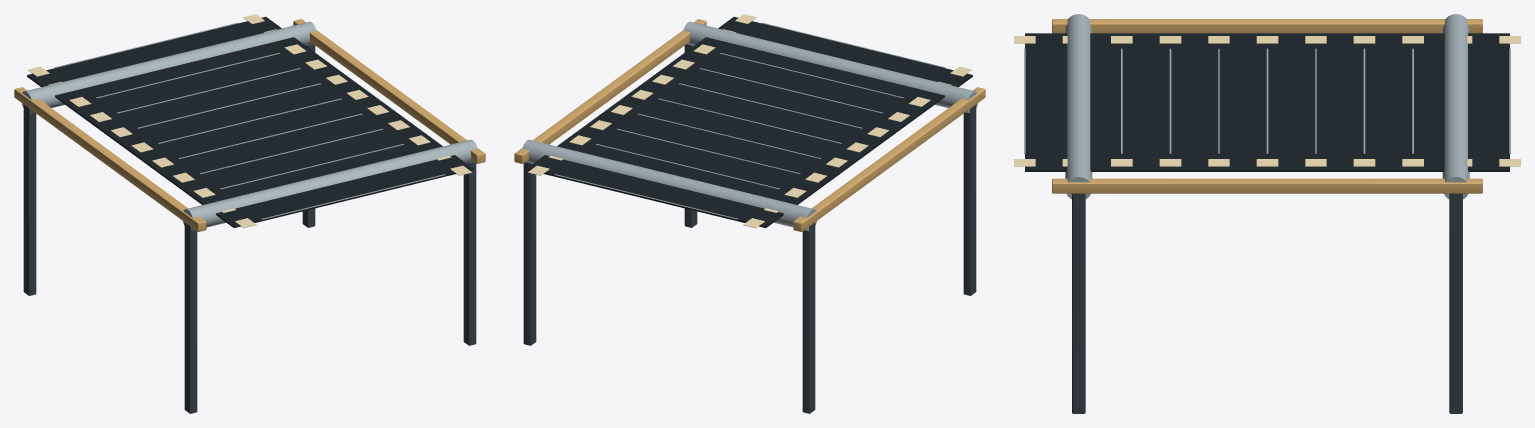
File: nyanisyarud-camera-overhead-film.glb
The picture shows the model from 3 angles, left to right: view 1: azimuth 30°, elevation 25°; view 2: azimuth 150°, elevation 25°; view 3: azimuth 270°, elevation 25°; orthographic projection. The views are drawn at different scales.
Visible parts, largest first — view 1: OverheadFilm, overhead-film_case, overhead-film_steel, overhead-film_brass, FilmFlow_steel, FilmFlow_cream; view 2: OverheadFilm, overhead-film_case, overhead-film_steel, overhead-film_brass, FilmFlow_steel, FilmFlow_cream; view 3: OverheadFilm, overhead-film_brass, overhead-film_steel, overhead-film_case, FilmFlow_cream, FilmFlow_steel.
Part boxes in pixels (<box>): OverheadFilm: <box>27,16,472,227</box>; overhead-film_case: <box>23,44,476,413</box>; overhead-film_steel: <box>22,21,477,231</box>; overhead-film_brass: <box>14,19,485,231</box>; FilmFlow_steel: <box>54,22,445,219</box>; FilmFlow_cream: <box>28,14,471,228</box>; OverheadFilm: <box>527,16,972,227</box>; overhead-film_case: <box>523,44,976,413</box>; overhead-film_steel: <box>522,21,977,231</box>; overhead-film_brass: <box>514,19,985,231</box>; FilmFlow_steel: <box>554,22,945,219</box>; FilmFlow_cream: <box>528,14,971,228</box>; OverheadFilm: <box>1025,33,1509,171</box>; overhead-film_brass: <box>1052,19,1482,193</box>; overhead-film_steel: <box>1065,14,1469,199</box>; overhead-film_case: <box>1072,193,1462,413</box>; FilmFlow_cream: <box>1014,36,1520,166</box>; FilmFlow_steel: <box>1024,48,1510,153</box>.
Size of the model in its own units: 14.45 by 9.7 by 18.8.
